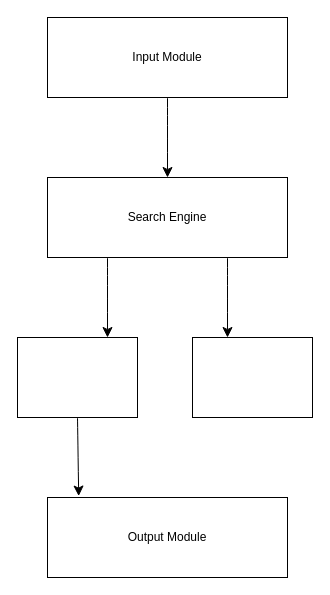
This 330x595 diagram has some shape labels left out. Here are the shapes that lost their labels. From the top down, the box of each, then its label:
(16, 336, 138, 418): Heuristic Module
(192, 336, 312, 418): Memory / Visited Set
